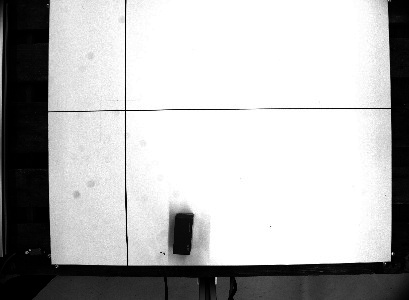b3: (169, 211, 196, 255)
